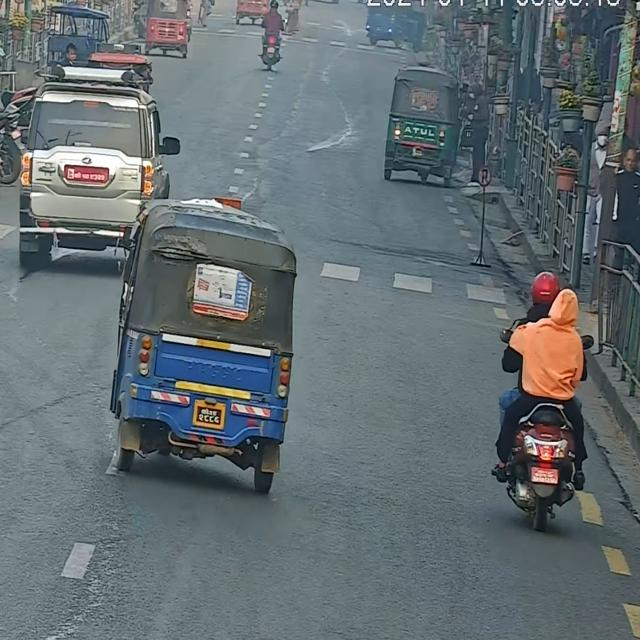license_plate: (56, 155, 128, 195), (191, 393, 228, 433)
